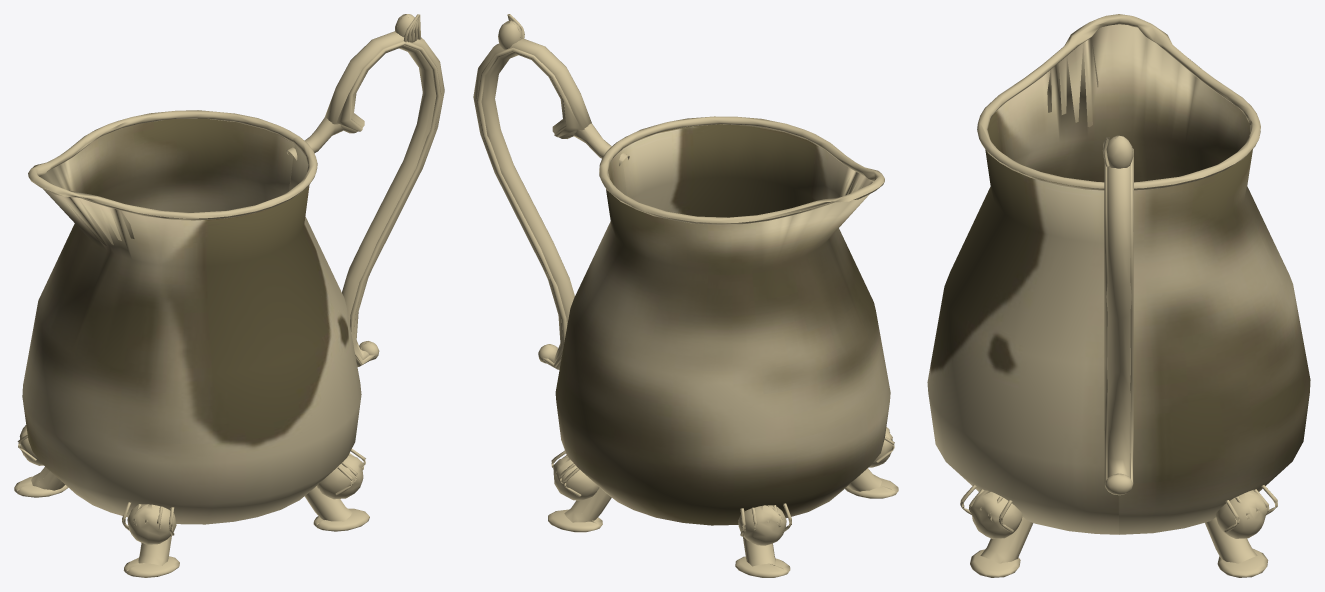
The picture shows the model from 3 angles, left to right: view 1: azimuth 30°, elevation 25°; view 2: azimuth 150°, elevation 25°; view 3: azimuth 270°, elevation 25°; orthographic projection. The views are drawn at different scales.
Visible parts, largest first — view 1: pitcher; view 2: pitcher; view 3: pitcher.
Part boxes in pixels (bbox=[...]): pitcher: bbox=[14, 14, 444, 577]; pitcher: bbox=[473, 14, 898, 577]; pitcher: bbox=[927, 14, 1310, 577].
Bounding box in the file's own units: 0.2057 × 0.2135 × 0.1474.
2 materials, 1 textured.
